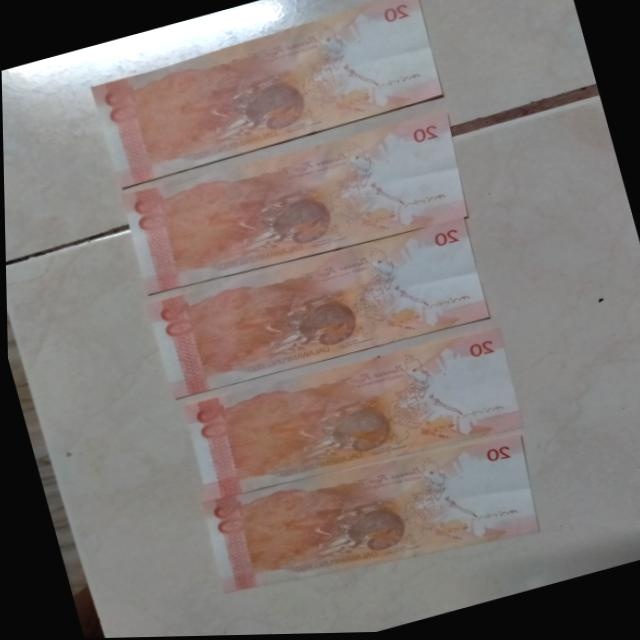20_civet: (315, 396, 404, 464)
20_civet_watermark: (406, 406, 461, 450), (421, 511, 468, 554)
